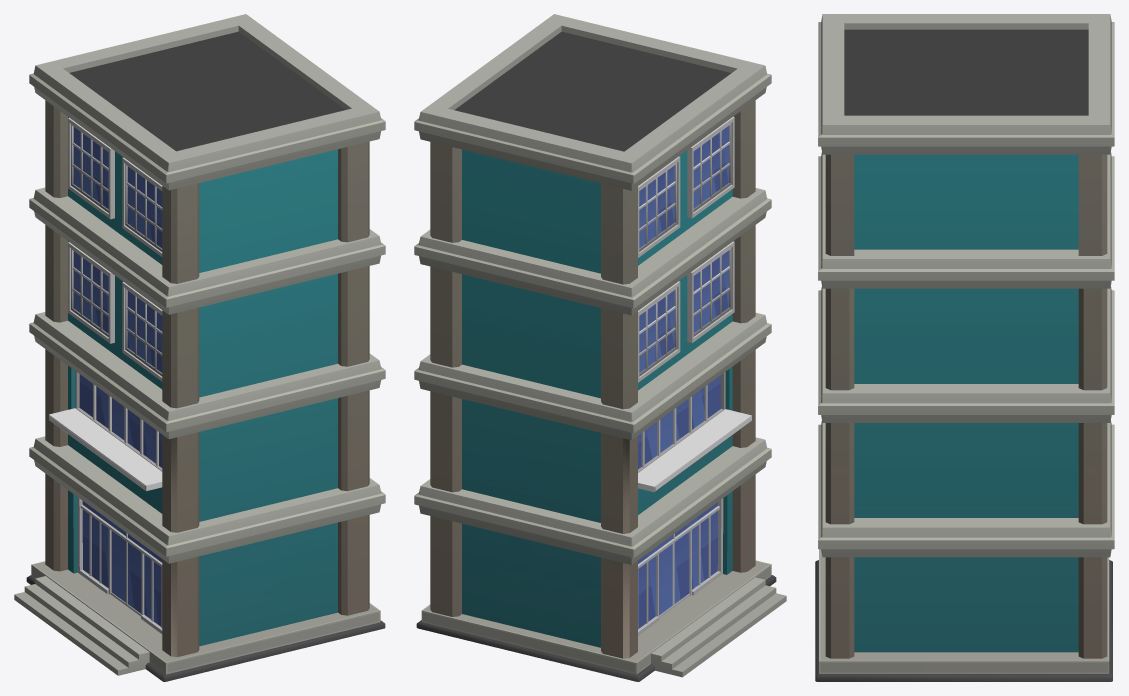
The model's file is Building_9_1_GG.fbx.
3 views of the same model, side by side, from view 1: azimuth 30°, elevation 25°; view 2: azimuth 150°, elevation 25°; view 3: azimuth 270°, elevation 25° (orthographic). The views are drawn at different scales.
Visible parts, largest first — view 1: Building_9_1_GG; view 2: Building_9_1_GG; view 3: Building_9_1_GG.
Part boxes in pixels (left/top/right/bottom): Building_9_1_GG: left=14, top=14, right=385, bottom=681; Building_9_1_GG: left=414, top=14, right=786, bottom=681; Building_9_1_GG: left=815, top=14, right=1114, bottom=681.
Size of the model in its own units: 947 by 1855 by 906.
